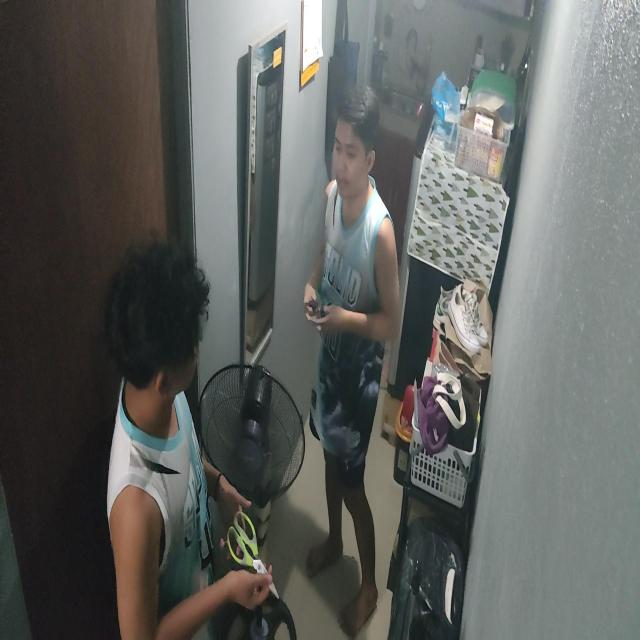scissor: (228, 510, 281, 603)
